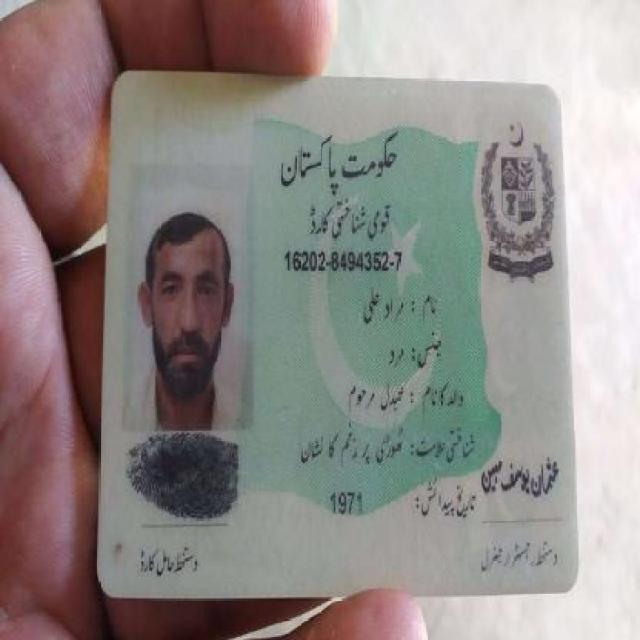Front: (89, 56, 591, 606)
